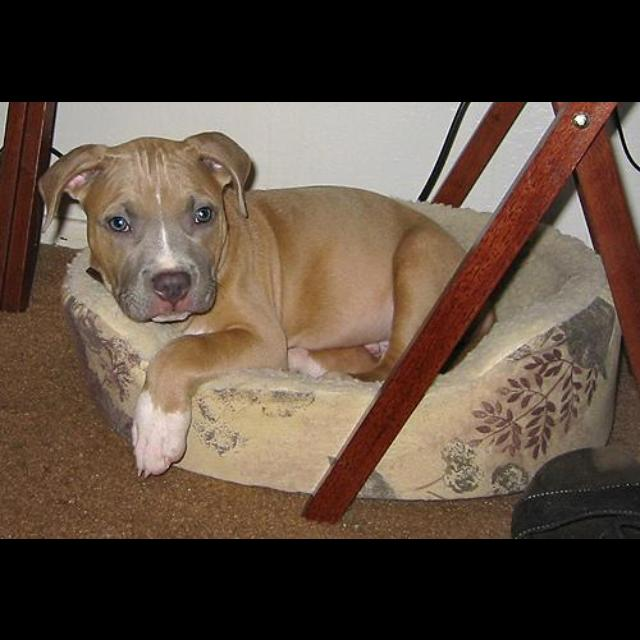amstaff: (37, 129, 497, 479)
